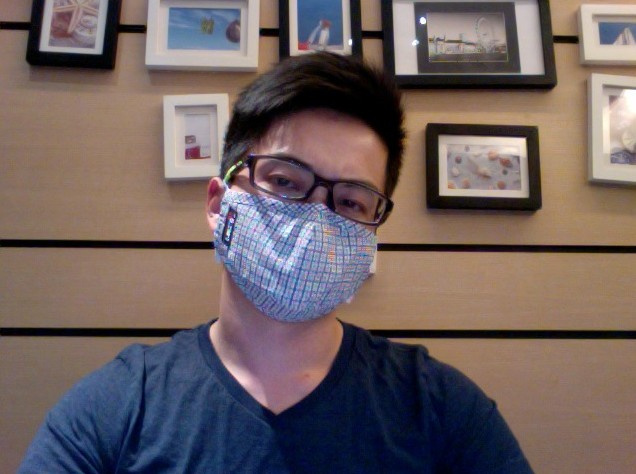face_mask: (221, 116, 381, 323)
